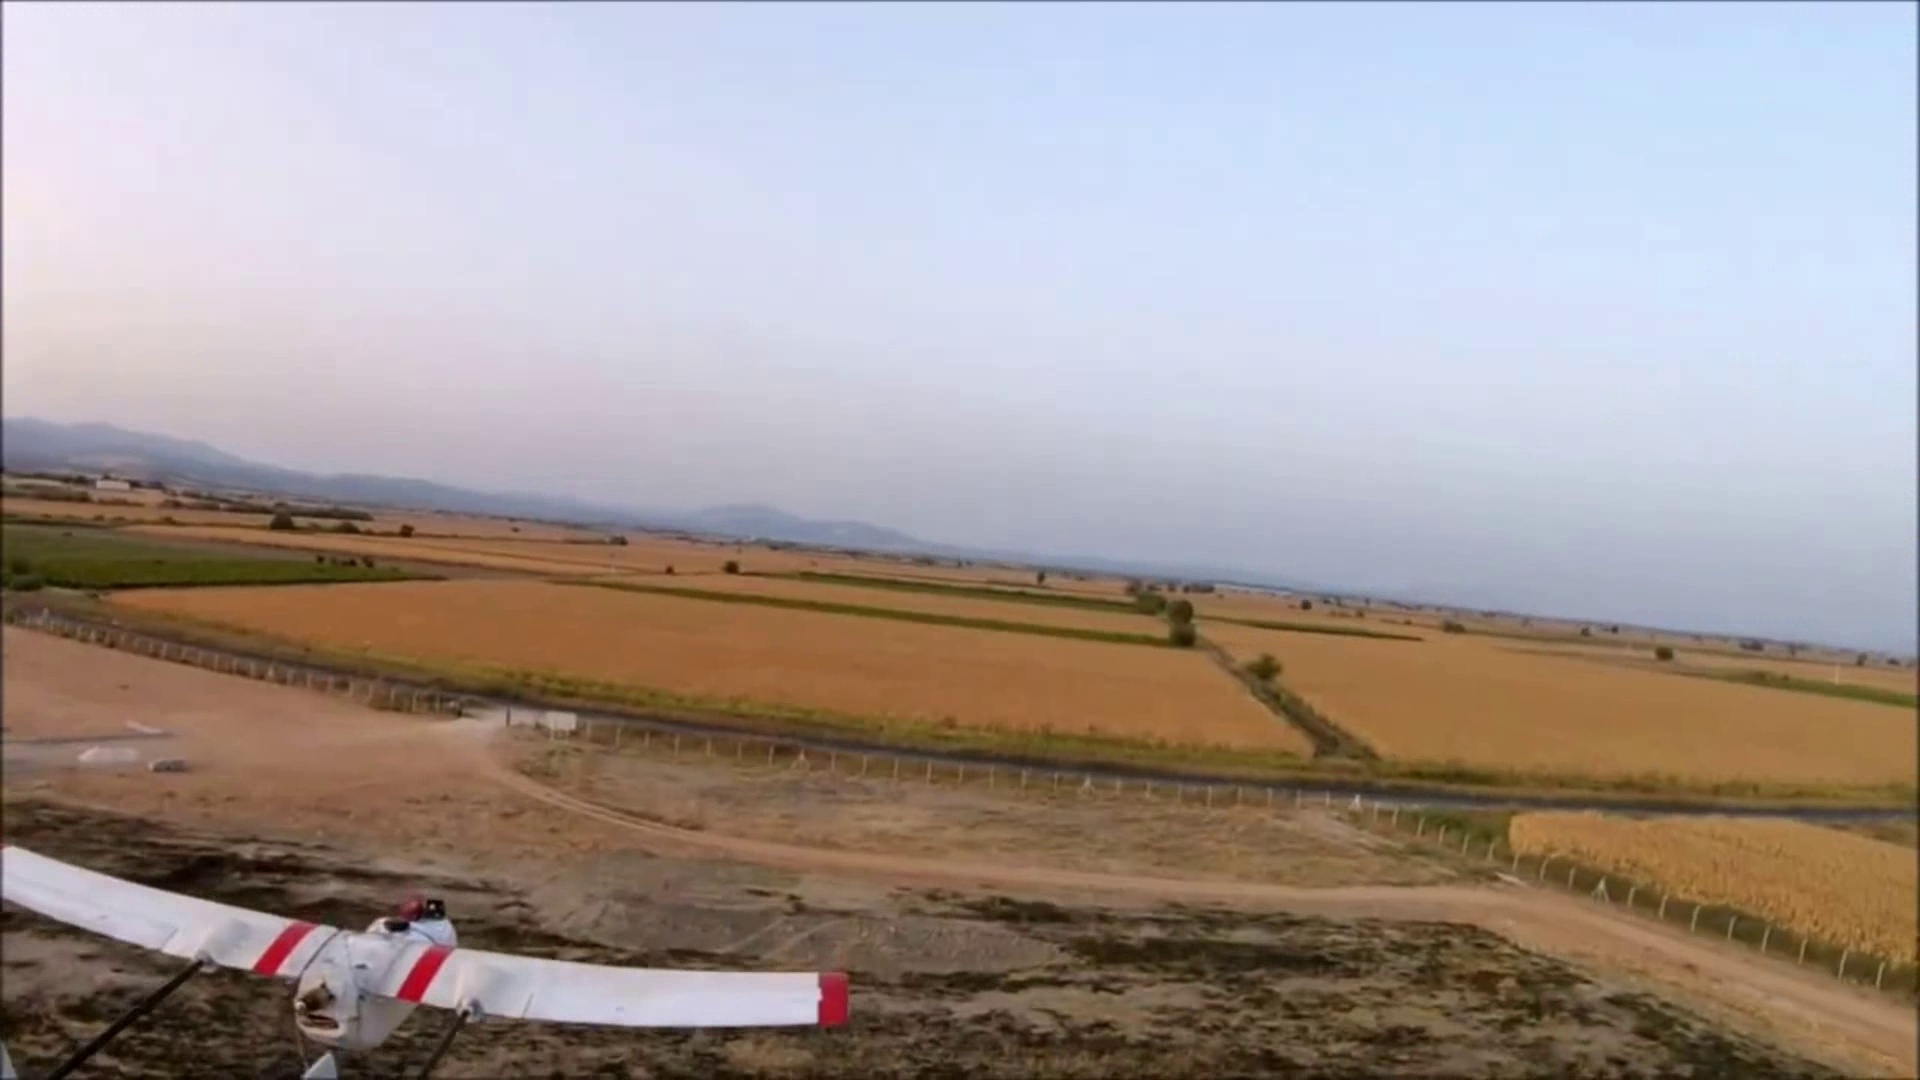airplane: (3, 843, 857, 1064)
